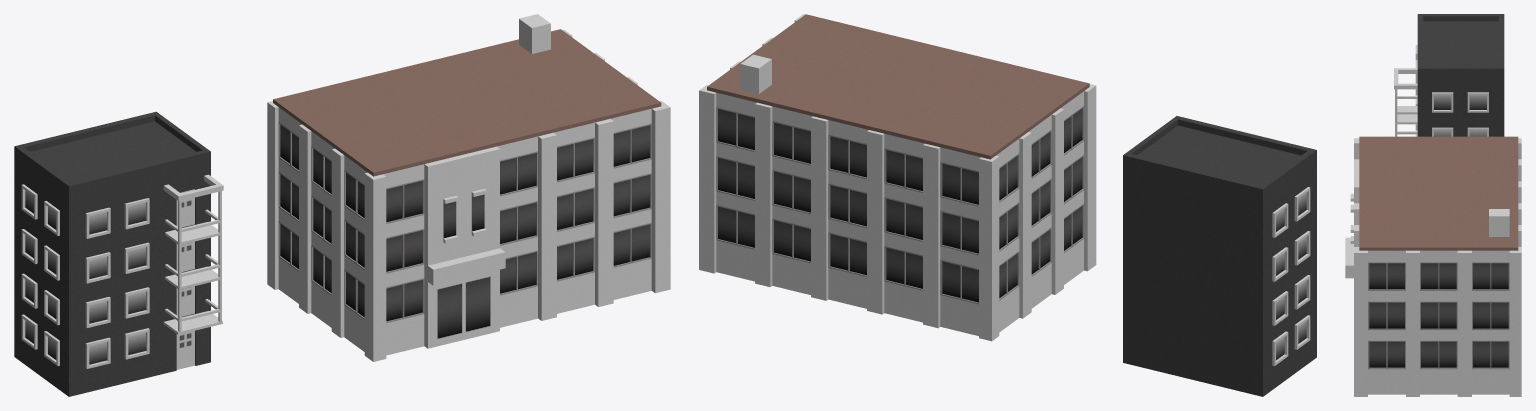
The model's file is City_02.fbx.
The picture shows the model from 3 angles, left to right: view 1: azimuth 30°, elevation 25°; view 2: azimuth 150°, elevation 25°; view 3: azimuth 270°, elevation 25°; orthographic projection. The views are drawn at different scales.
Parts seen in each view (by area): view 1: Building_05, Building_04; view 2: Building_05, Building_04; view 3: Building_05, Building_04.
Part boxes in pixels (<box>): Building_05: <box>267,14,670,361</box>; Building_04: <box>14,111,223,396</box>; Building_05: <box>699,14,1096,341</box>; Building_04: <box>1123,116,1316,396</box>; Building_05: <box>1345,136,1521,396</box>; Building_04: <box>1394,14,1504,136</box>.
Bounding box in the file's own units: 476 × 171 × 163.
